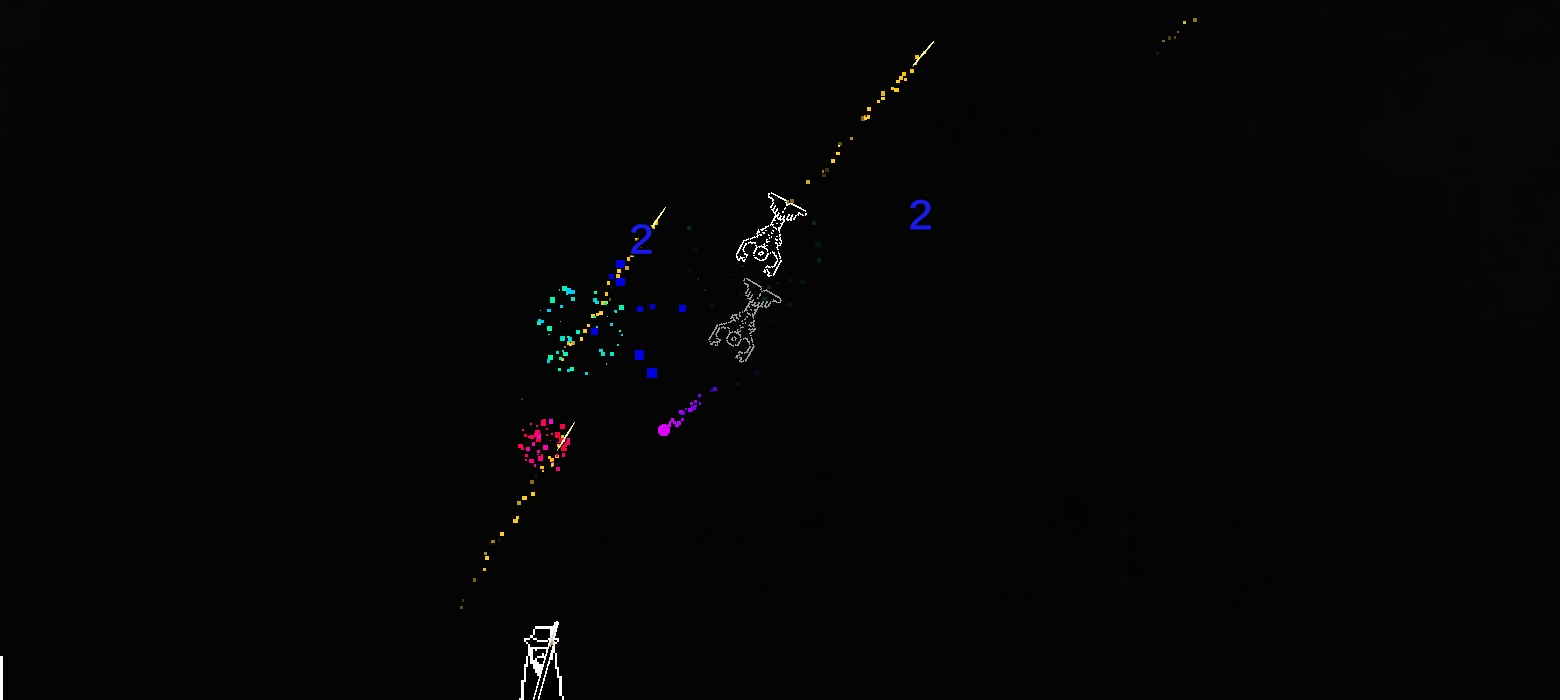enemy: (708, 278, 782, 363), (736, 191, 808, 278)
